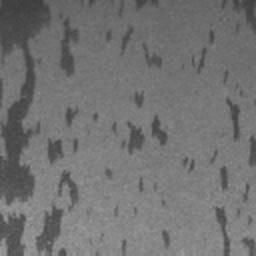Red iron sheet: (0, 0, 170, 256), (182, 97, 256, 256), (105, 0, 164, 69), (197, 29, 229, 83), (219, 0, 256, 32), (120, 238, 127, 256)
